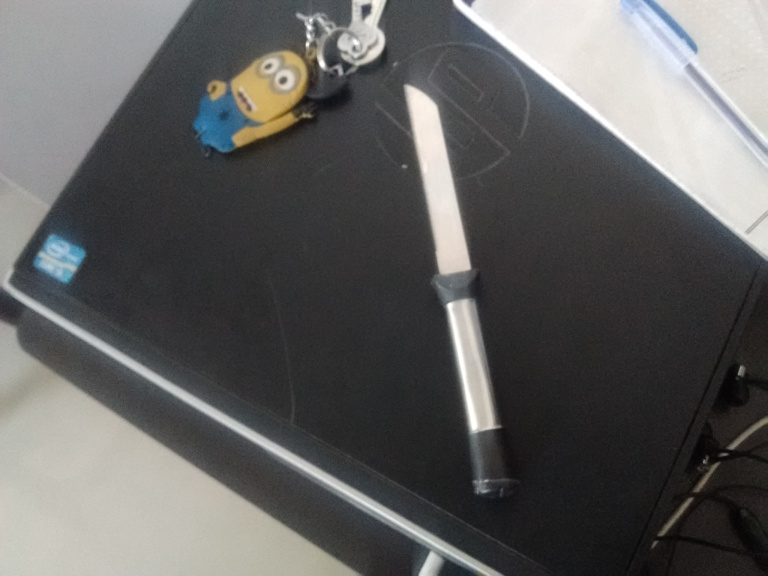knife: (398, 81, 526, 502)
